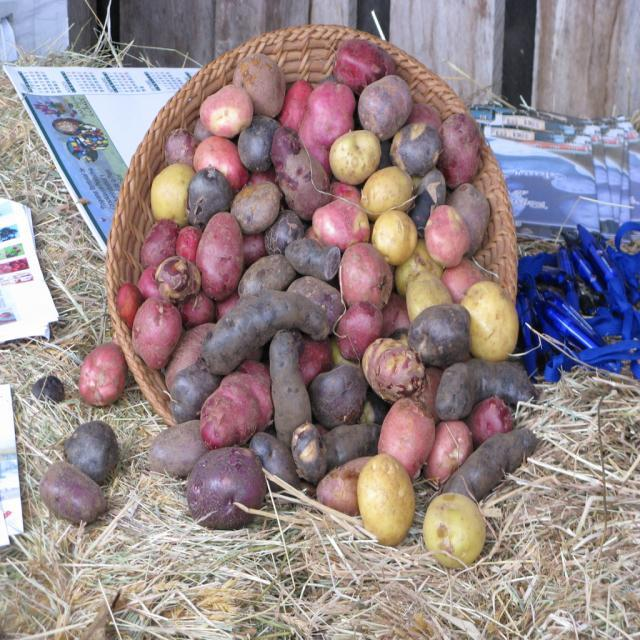Potato: (40, 36, 536, 570), (187, 448, 265, 532)
